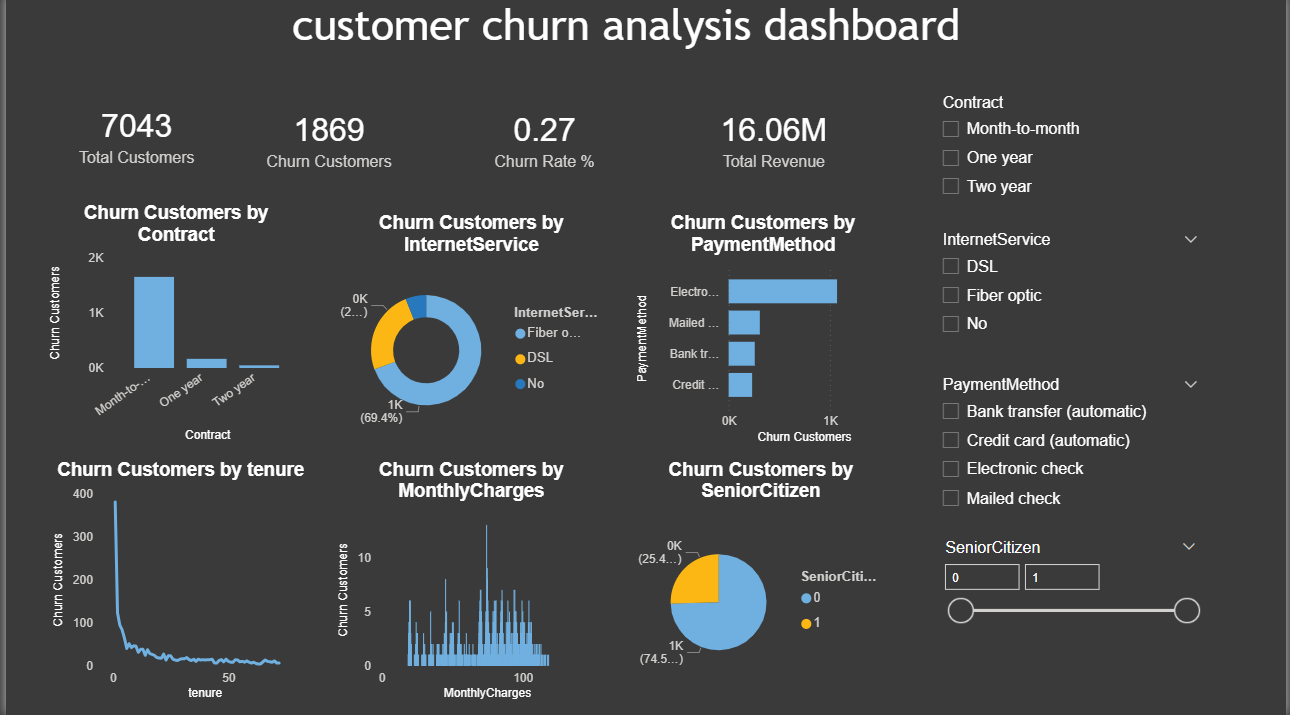

Layout of this report page (visuals, bound fields, positions):
{"tool":"powerbi","page":{"name":"Page 1","canvas":[1280,720],"ordinal":0},"visuals":[{"type":"card","fields":{"Values":["WA_Fn-UseC_-Telco-Customer-Churn.Total Revenue"]},"box":[654.3,101.4,228.6,84.3],"z":0},{"type":"card","fields":{"Values":["WA_Fn-UseC_-Telco-Customer-Churn.Churn Customers"]},"box":[222.9,101.4,201.4,84.3],"z":1000},{"type":"card","fields":{"Values":["WA_Fn-UseC_-Telco-Customer-Churn.Total Customers"]},"box":[38.6,94.3,184.3,91.4],"z":2000},{"type":"clusteredColumnChart","fields":{"Category":["WA_Fn-UseC_-Telco-Customer-Churn.Contract"],"Y":["WA_Fn-UseC_-Telco-Customer-Churn.Churn Customers"]},"box":[38.6,207.1,262.9,244.3],"z":3000},{"type":"donutChart","fields":{"Y":["WA_Fn-UseC_-Telco-Customer-Churn.Churn Customers"],"Category":["WA_Fn-UseC_-Telco-Customer-Churn.InternetService"]},"box":[327.1,217.1,275.7,234.3],"z":4000},{"type":"clusteredBarChart","fields":{"Category":["WA_Fn-UseC_-Telco-Customer-Churn.PaymentMethod"],"Y":["WA_Fn-UseC_-Telco-Customer-Churn.Churn Customers"]},"box":[625.7,217.1,261.4,235.7],"z":5000},{"type":"lineChart","fields":{"Y":["WA_Fn-UseC_-Telco-Customer-Churn.Churn Customers"],"Category":["WA_Fn-UseC_-Telco-Customer-Churn.tenure"]},"box":[42.9,464.3,264.3,245.7],"z":6000},{"type":"columnChart","fields":{"Category":["WA_Fn-UseC_-Telco-Customer-Churn.MonthlyCharges"],"Y":["WA_Fn-UseC_-Telco-Customer-Churn.Churn Customers"]},"box":[327.1,464.3,275.7,245.7],"z":7000},{"type":"pieChart","fields":{"Category":["WA_Fn-UseC_-Telco-Customer-Churn.SeniorCitizen"],"Y":["WA_Fn-UseC_-Telco-Customer-Churn.Churn Customers"]},"box":[625.7,464.3,257.1,245.7],"z":8000},{"type":"slicer","fields":{"Values":["WA_Fn-UseC_-Telco-Customer-Churn.Contract"]},"box":[924.3,94.3,280,124.3],"z":9000},{"type":"slicer","fields":{"Values":["WA_Fn-UseC_-Telco-Customer-Churn.InternetService"]},"box":[924.3,231.4,280,128.6],"z":10000},{"type":"slicer","fields":{"Values":["WA_Fn-UseC_-Telco-Customer-Churn.PaymentMethod"]},"box":[924.3,375.7,280,150],"z":11000},{"type":"slicer","fields":{"Values":["WA_Fn-UseC_-Telco-Customer-Churn.SeniorCitizen"]},"box":[925.7,538.6,275.7,171.4],"z":12000},{"type":"card","fields":{"Values":["WA_Fn-UseC_-Telco-Customer-Churn.Churn Rate %"]},"box":[424.3,101.4,230,84.3],"z":13000},{"type":"textbox","box":[38.6,0,1162.9,80],"z":14000}]}

Visuals, with their boxes in screenshot pixels (x1, y1, x2, y2), scaled from the page's 1280x720 canvas onto the 1290x715 screenshot:
card - WA_Fn-UseC_-Telco-Customer-Churn.Total Revenue: 659/101/890/184
card - WA_Fn-UseC_-Telco-Customer-Churn.Churn Customers: 225/101/428/184
card - WA_Fn-UseC_-Telco-Customer-Churn.Total Customers: 39/94/225/184
clusteredColumnChart - WA_Fn-UseC_-Telco-Customer-Churn.Contract x WA_Fn-UseC_-Telco-Customer-Churn.Churn Customers: 39/206/304/448
donutChart - WA_Fn-UseC_-Telco-Customer-Churn.Churn Customers x WA_Fn-UseC_-Telco-Customer-Churn.InternetService: 330/216/608/448
clusteredBarChart - WA_Fn-UseC_-Telco-Customer-Churn.PaymentMethod x WA_Fn-UseC_-Telco-Customer-Churn.Churn Customers: 631/216/894/450
lineChart - WA_Fn-UseC_-Telco-Customer-Churn.Churn Customers x WA_Fn-UseC_-Telco-Customer-Churn.tenure: 43/461/310/705
columnChart - WA_Fn-UseC_-Telco-Customer-Churn.MonthlyCharges x WA_Fn-UseC_-Telco-Customer-Churn.Churn Customers: 330/461/608/705
pieChart - WA_Fn-UseC_-Telco-Customer-Churn.SeniorCitizen x WA_Fn-UseC_-Telco-Customer-Churn.Churn Customers: 631/461/890/705
slicer - WA_Fn-UseC_-Telco-Customer-Churn.Contract: 932/94/1214/217
slicer - WA_Fn-UseC_-Telco-Customer-Churn.InternetService: 932/230/1214/358
slicer - WA_Fn-UseC_-Telco-Customer-Churn.PaymentMethod: 932/373/1214/522
slicer - WA_Fn-UseC_-Telco-Customer-Churn.SeniorCitizen: 933/535/1211/705
card - WA_Fn-UseC_-Telco-Customer-Churn.Churn Rate %: 428/101/659/184
textbox: 39/0/1211/79
